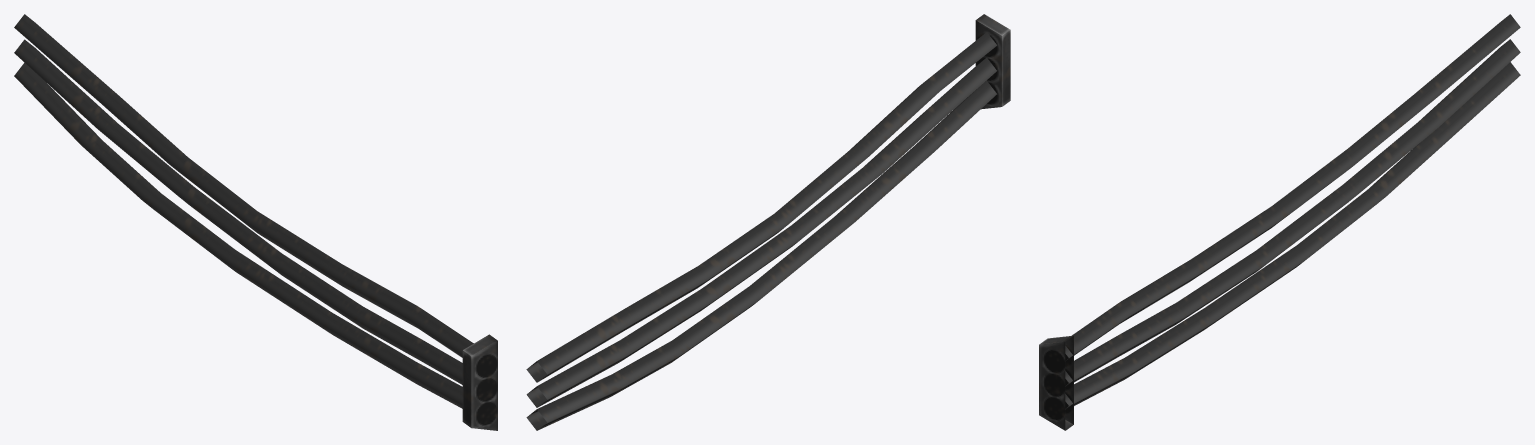
Rendered from cableWall01_A.fbx.
The picture shows the model from 3 angles, left to right: view 1: azimuth 30°, elevation 25°; view 2: azimuth 150°, elevation 25°; view 3: azimuth 330°, elevation 25°; orthographic projection.
Visible parts, largest first — view 1: cableWall01_A; view 2: cableWall01_A; view 3: cableWall01_A.
Boxes of the visible parts, x1,y1,x2,y2 form: cableWall01_A: (14,14,497,430); cableWall01_A: (526,14,1010,430); cableWall01_A: (1039,14,1520,430).
Bounding box in the file's own units: 10.09 × 39.65 × 303.
